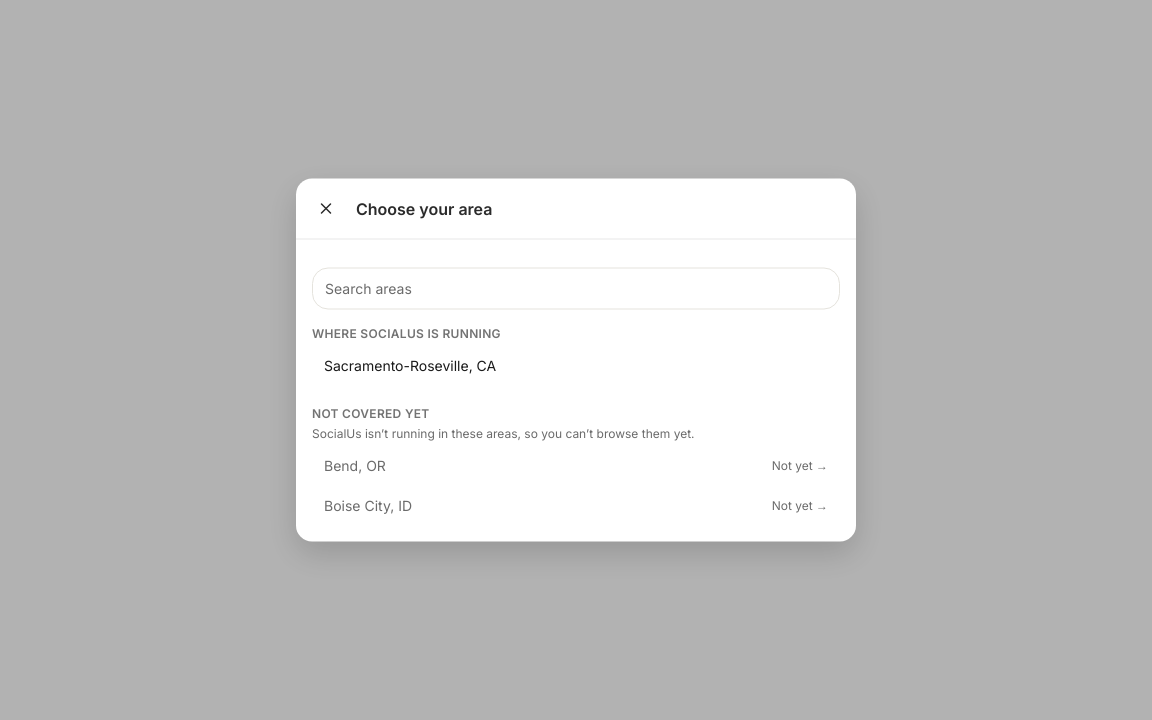
Scenario: AreaPicker › the examples in that panel are marked, and none of them is a link
The width and height of the screenshot is (1152, 720).
Click the button with test id "scope-metro-boise-city-id".
click(368, 505)  # box [312,486,840,526]
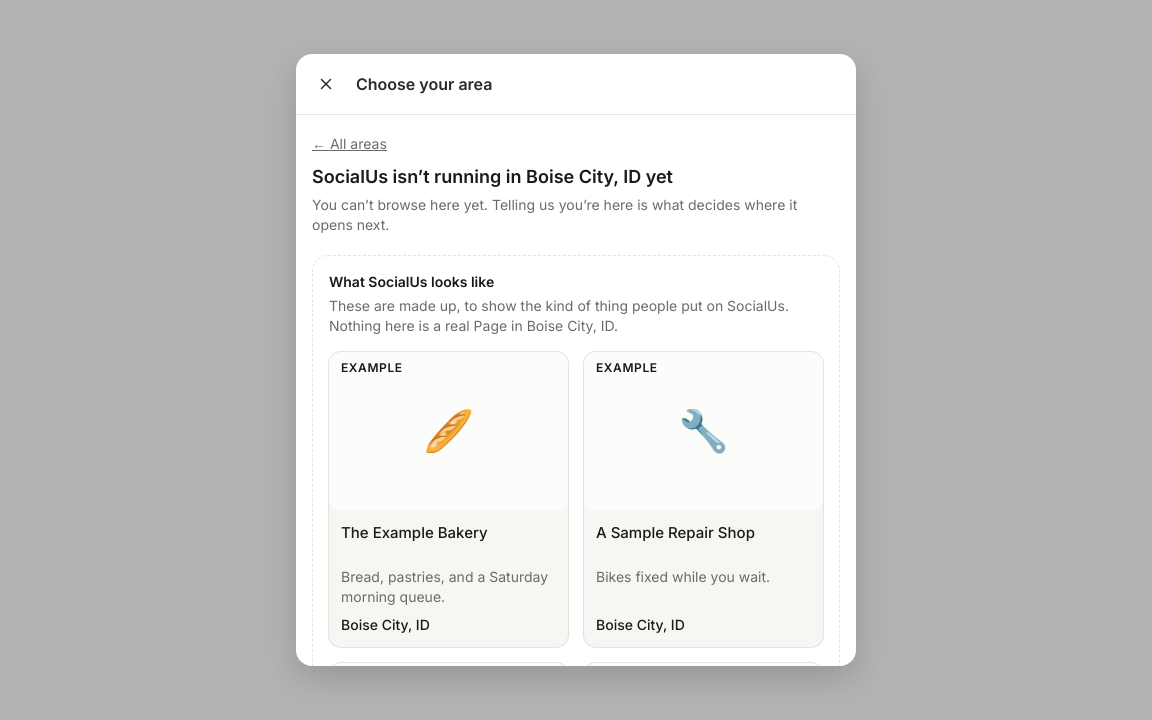
Now the 1st list item with test id "example-card" is shown, box [329,352,568,647]
Now the 1st text with test id "example-mark" reads "Example", box [341,360,403,375]
Now the button "Sacramento-Roseville, CA" is gone
